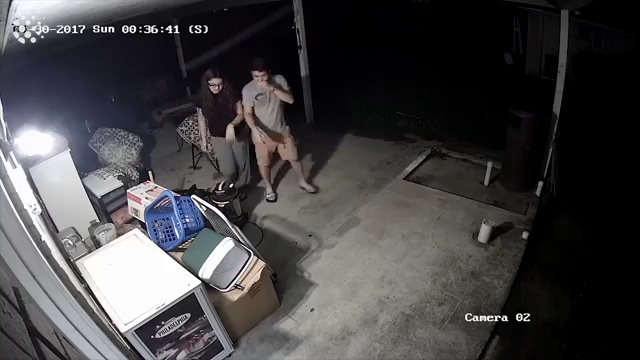face: (207, 78, 222, 94), (252, 70, 268, 85)
